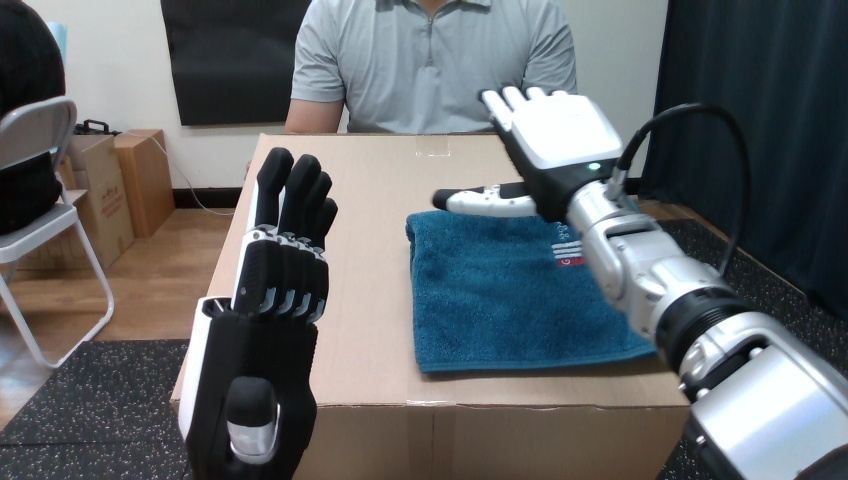left robot hand: (433, 87, 847, 478), (179, 147, 336, 478), (623, 112, 744, 272)
